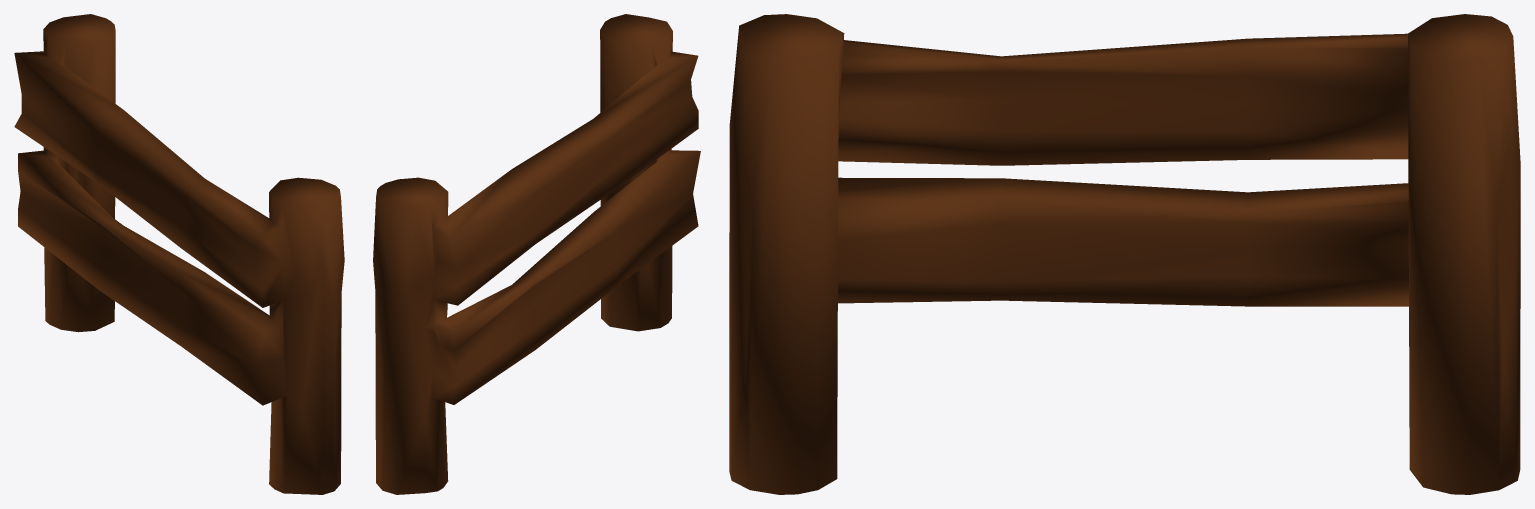
The model's file is fence.gltf.
The picture shows the model from 3 angles, left to right: view 1: azimuth 30°, elevation 25°; view 2: azimuth 150°, elevation 25°; view 3: azimuth 270°, elevation 25°; orthographic projection. The views are drawn at different scales.
Visible parts, largest first — view 1: Cube.001; view 2: Cube.001; view 3: Cube.001.
Boxes of the visible parts, x1,y1,x2,y2 form: Cube.001: (14, 14, 344, 494); Cube.001: (373, 14, 700, 494); Cube.001: (729, 14, 1520, 494).
Size of the model in its own units: 0.0818 by 0.2581 by 0.4254.
1 material, 1 textured.
